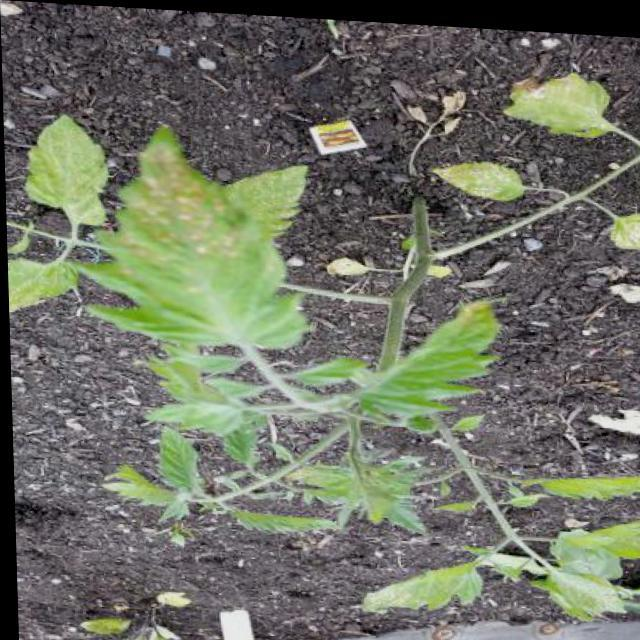Tomato late blight leaf: (98, 117, 318, 376), (338, 284, 520, 422), (347, 542, 488, 620), (518, 550, 614, 618)
